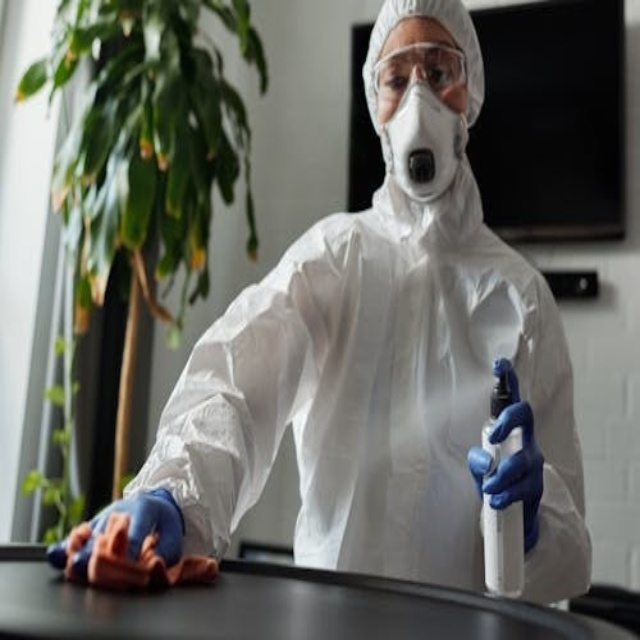Gafas: (371, 41, 468, 98)
Guantes: (42, 471, 195, 583), (462, 389, 548, 558)
Mascara: (384, 82, 467, 203)
